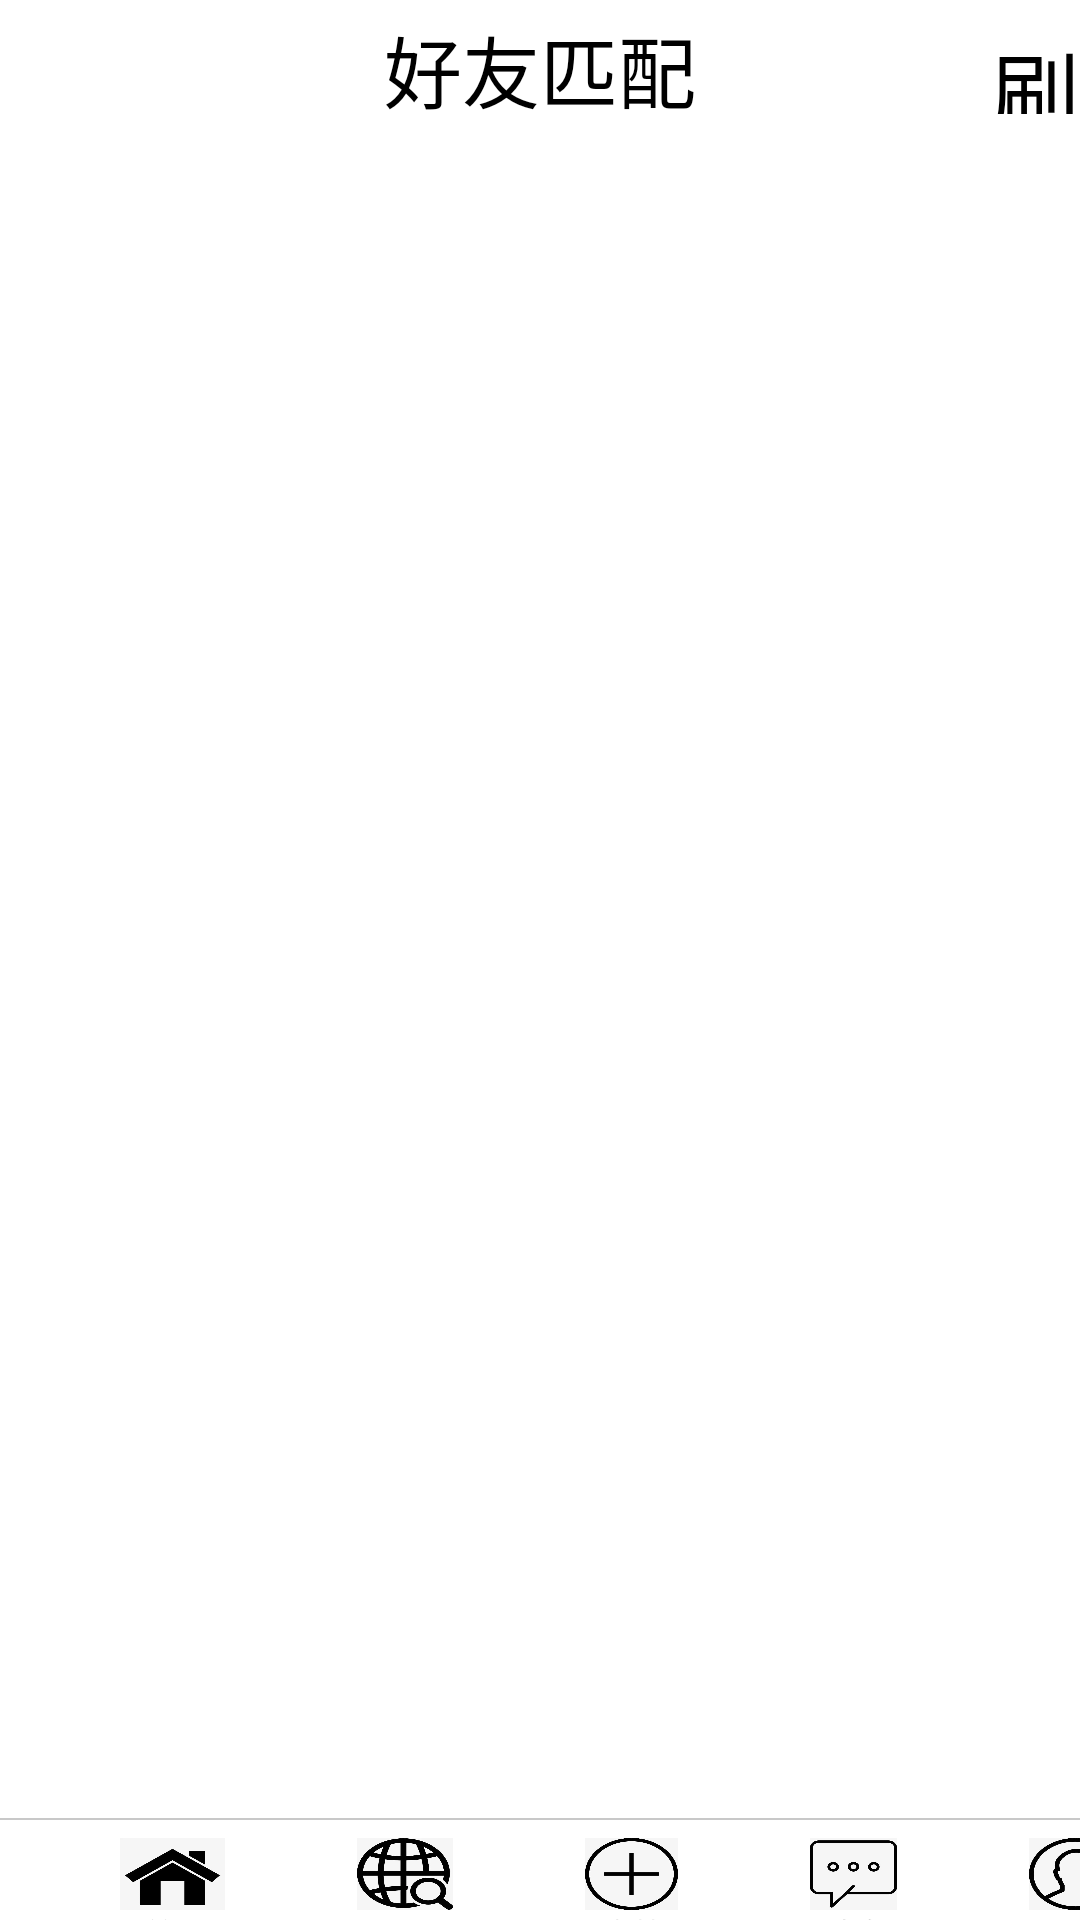

Icons on this 1080*1920 Android screen, each with the point to tap as point (x, y):
home: point (172, 1877)
message: point (853, 1874)
post: point (631, 1874)
